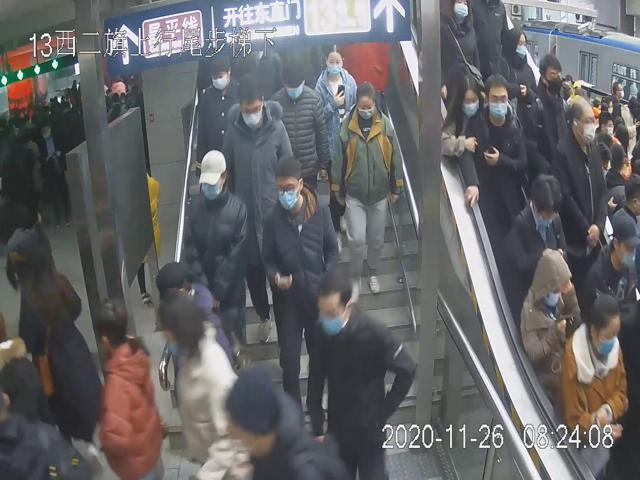person: (304, 266, 415, 480), (261, 153, 340, 438), (219, 77, 301, 343), (180, 142, 249, 388), (331, 78, 405, 303), (464, 70, 526, 248), (555, 86, 609, 251), (266, 55, 329, 188), (193, 51, 253, 179), (310, 40, 360, 181)
